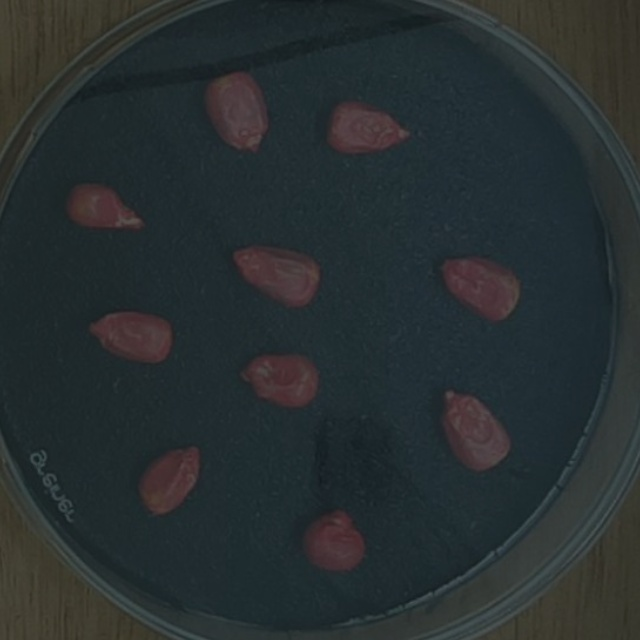Zea mays: (222, 234, 328, 317), (433, 381, 519, 479), (195, 63, 276, 162), (432, 249, 527, 328), (76, 302, 180, 374), (318, 92, 416, 163), (128, 437, 207, 524), (230, 344, 325, 416), (56, 174, 154, 242), (291, 499, 372, 579)
